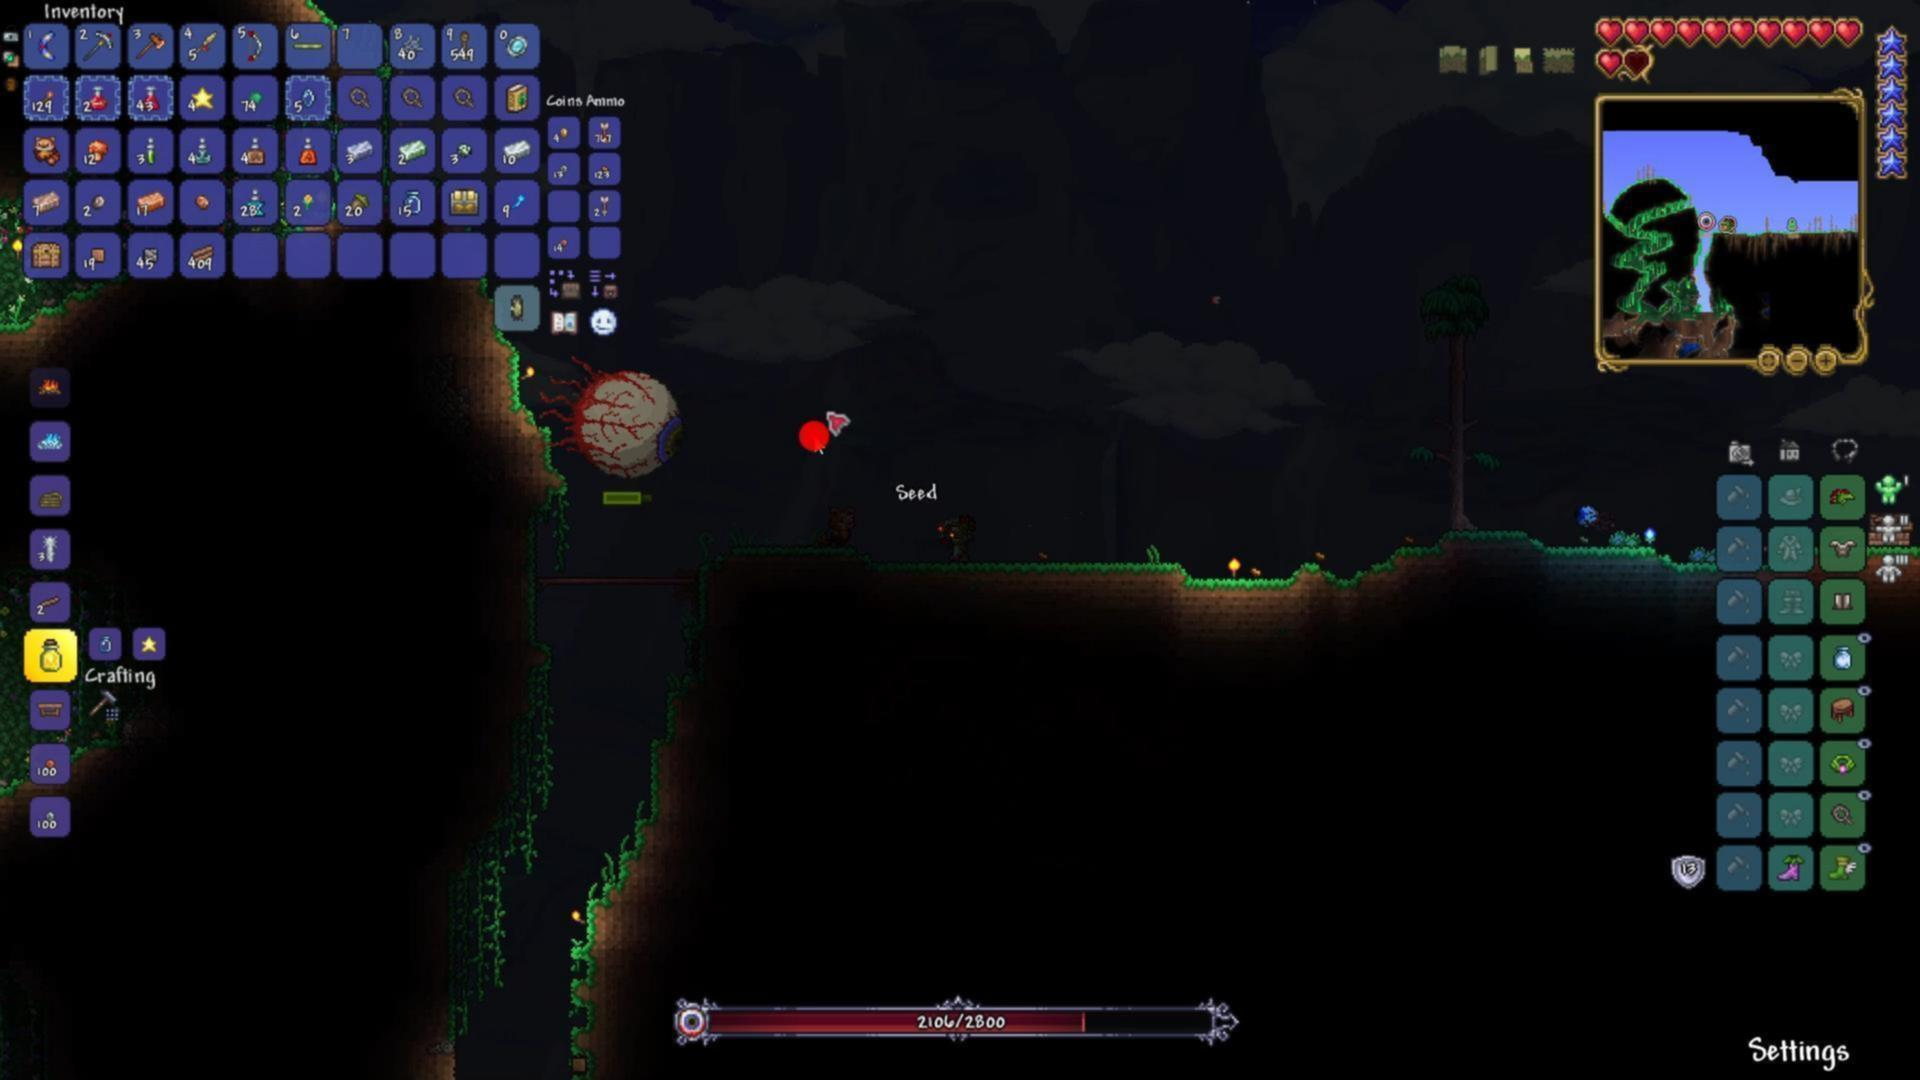axe: (135, 30, 167, 58)
breastplate: (1826, 537, 1858, 559)
cobwebI: (401, 33, 426, 58)
eye: (1559, 488, 1614, 542)
eyeC: (531, 348, 705, 505)
legs: (1829, 591, 1858, 612)
lens: (301, 86, 318, 112)
wood: (190, 241, 218, 264)
workbench: (36, 695, 65, 716)
